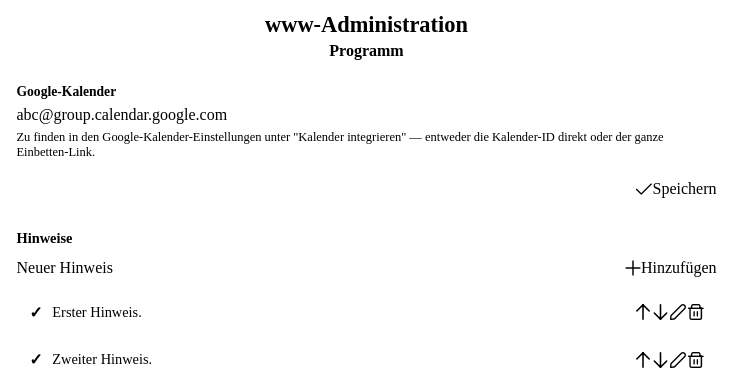
Test case: ProgrammAdminView › field limits, server values and row names › shows the calendar as the API stored it after saving
Replace the text in the field with id "calendar-id" with "  eigene-eingabe  " at coordinates (366, 115), box [16, 106, 716, 124]
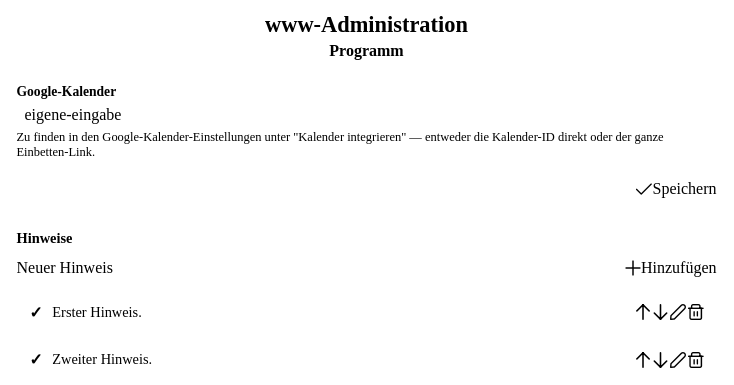
Click the button "Speichern" at coordinates (676, 189), box [636, 180, 716, 198]
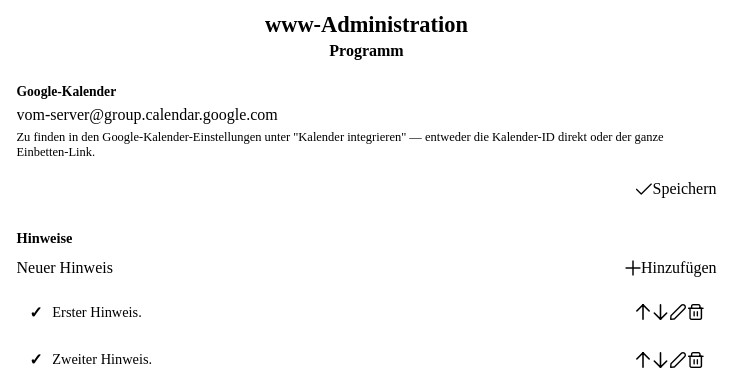
Now the field with id "calendar-id" holds "vom-server@group.calendar.google.com", box [16, 106, 716, 124]
